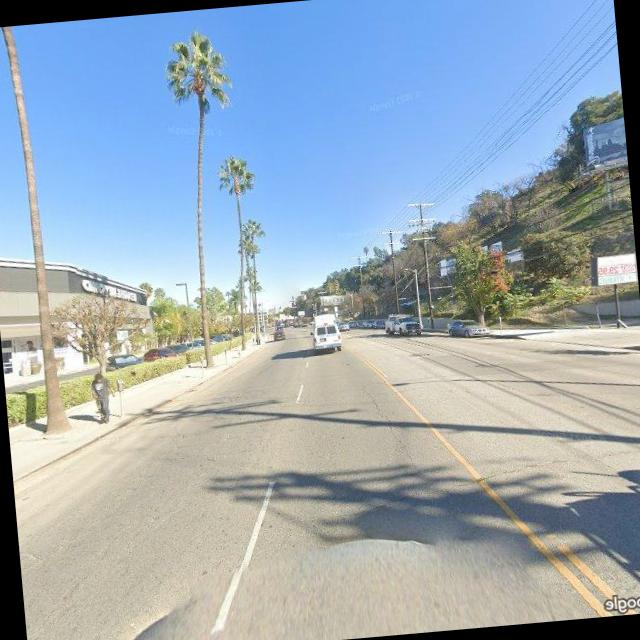crack: (346, 439, 640, 519), (363, 373, 433, 491)
